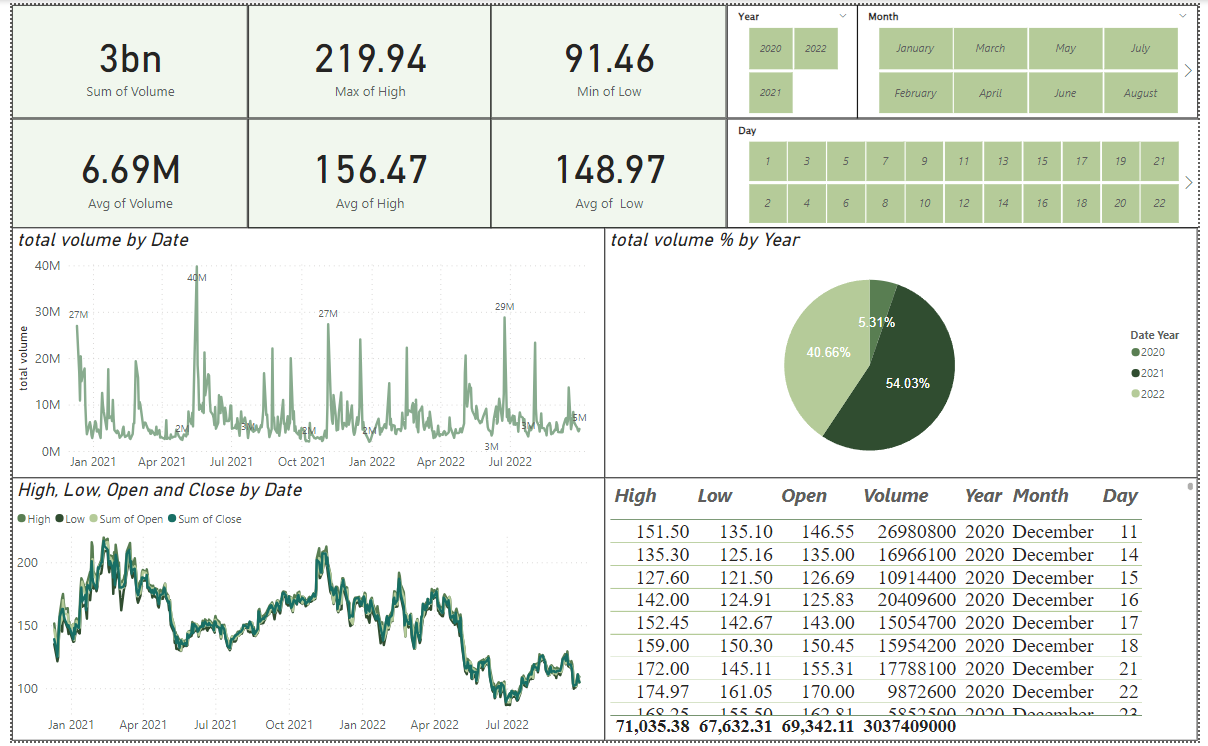

The dashboard page shown, as its layout file describes it:
{"tool":"powerbi","page":{"name":"Page 1","canvas":[1450,900],"ordinal":0},"visuals":[{"type":"slicer","fields":{"Values":["ABNB.Date.Variation.Date Hierarchy.Month"]},"box":[1033.3,0,416.7,138.3],"z":1000},{"type":"slicer","title":"SCCCSS","fields":{"Values":["ABNB.Date.Variation.Date Hierarchy.Year"]},"box":[873.3,0,160,138.3],"z":2000},{"type":"card","fields":{"Values":["metrics (2).avg volume"]},"box":[0,138.3,288.3,133.3],"z":3000},{"type":"card","fields":{"Values":["Max(ABNB.High)"]},"box":[288.3,0,296.7,138.3],"z":4000},{"type":"card","fields":{"Values":["Min(ABNB.High)"]},"box":[585,0,288.3,138.3],"z":5000},{"type":"lineChart","fields":{"Category":["ABNB.Date"],"Y":["metrics (2).total volume"]},"box":[0,271.7,725,306.7],"z":6000},{"type":"lineChart","title":"High, Low, Open and Close by Date","fields":{"Category":["ABNB.Date"],"Y":["Sum(ABNB.High)","Sum(ABNB.Low)","Sum(ABNB.Open)","Sum(ABNB.Close)"]},"box":[0,578.3,725,321.7],"z":7000},{"type":"pieChart","title":"total volume % by Year","fields":{"Category":["ABNB.Date.Variation.Date Hierarchy.Year"],"Y":["metrics (2).total volume"]},"box":[725,271.7,725,306.7],"z":8000},{"type":"card","fields":{"Values":["Avg(ABNB.High)"]},"box":[288.3,138.3,296.7,133.3],"z":9000},{"type":"card","fields":{"Values":["Sum(ABNB.Volume)"]},"box":[0,0,288.3,138.3],"z":10000},{"type":"slicer","fields":{"Values":["ABNB.Date.Variation.Date Hierarchy.Day"]},"box":[873.3,138.3,576.7,133.3],"z":11000},{"type":"tableEx","fields":{"Values":["Sum(ABNB.High)","Sum(ABNB.Low)","Sum(ABNB.Open)","Sum(ABNB.Volume)","ABNB.Date.Variation.Date Hierarchy.Year","ABNB.Date.Variation.Date Hierarchy.Month","ABNB.Date.Variation.Date Hierarchy.Day"]},"box":[725,578.3,725,321.7],"z":12000},{"type":"card","fields":{"Values":["metrics (2).avg low"]},"box":[585,138.3,288.3,133.3],"z":13000}]}

Visuals, with their boxes in screenshot pixels (x1, y1, x2, y2), scaled from the page's 1450x900 canvas onto the 1208x746 screenshot:
slicer - ABNB.Date.Variation.Date Hierarchy.Month: Rect(861, 0, 1207, 115)
"SCCCSS" slicer: Rect(728, 0, 861, 115)
card - metrics (2).avg volume: Rect(0, 115, 240, 225)
card - Max(ABNB.High): Rect(240, 0, 487, 115)
card - Min(ABNB.High): Rect(487, 0, 728, 115)
lineChart - ABNB.Date x metrics (2).total volume: Rect(0, 225, 604, 479)
"High, Low, Open and Close by Date" lineChart: Rect(0, 479, 604, 745)
"total volume % by Year" pieChart: Rect(604, 225, 1207, 479)
card - Avg(ABNB.High): Rect(240, 115, 487, 225)
card - Sum(ABNB.Volume): Rect(0, 0, 240, 115)
slicer - ABNB.Date.Variation.Date Hierarchy.Day: Rect(728, 115, 1207, 225)
tableEx - Sum(ABNB.High) x Sum(ABNB.Low): Rect(604, 479, 1207, 745)
card - metrics (2).avg low: Rect(487, 115, 728, 225)
